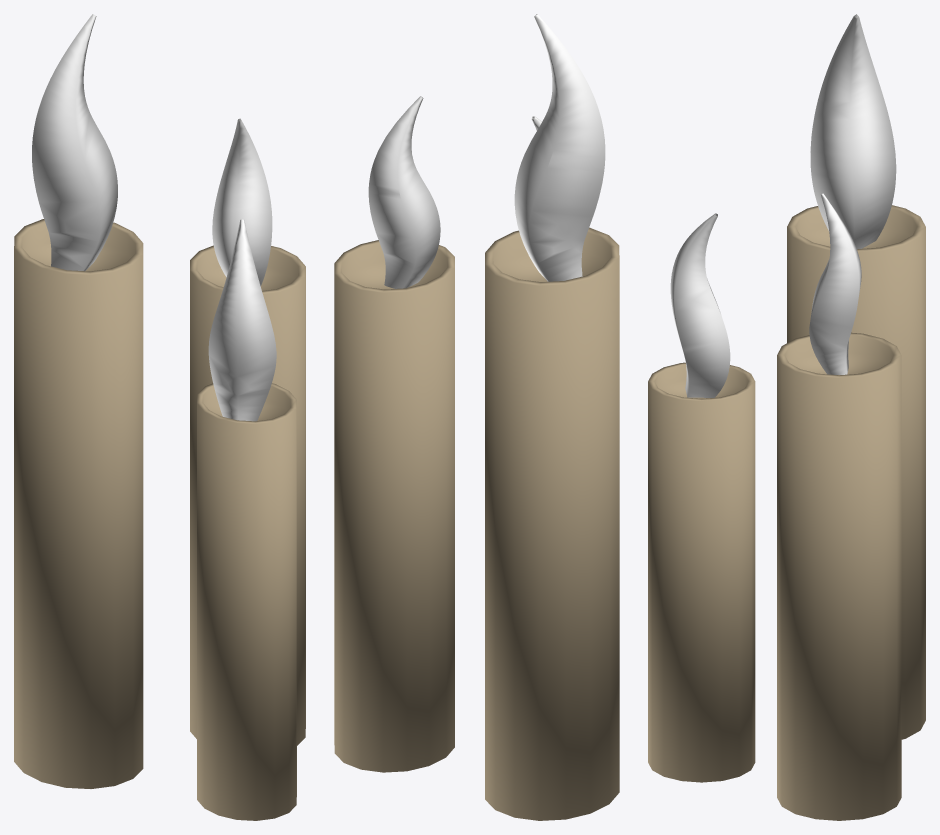
File: Candle4.fbx
3 views of the same model, side by side, from view 1: azimuth 30°, elevation 25°; view 2: azimuth 150°, elevation 25°; view 3: azimuth 270°, elevation 25° (orthographic). The views are drawn at different scales.
Visible parts, largest first — view 1: candle; view 2: candle; view 3: candle.
Boxes of the visible parts, x1,y1,x2,y2 form: candle: (14,14,305,820); candle: (334,14,619,820); candle: (648,14,925,820).
Bounding box in the file's own units: 0.2084 × 0.5602 × 0.1972.
